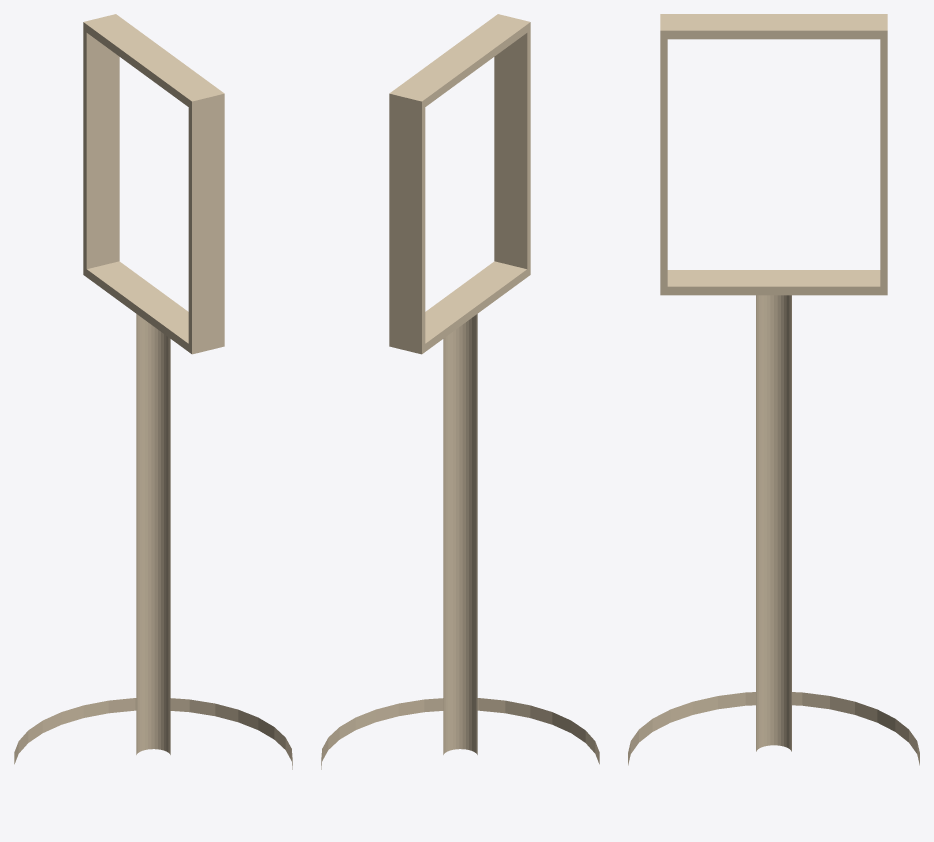
File: stand.glb
3 views of the same model, side by side, from view 1: azimuth 30°, elevation 25°; view 2: azimuth 150°, elevation 25°; view 3: azimuth 270°, elevation 25° (orthographic). The views are drawn at different scales.
Visible parts, largest first — view 1: Circle; view 2: Circle; view 3: Circle.
Part boxes in pixels (box(x1,y1,x2,y2)): Circle: box(14, 14, 292, 769); Circle: box(321, 14, 599, 769); Circle: box(628, 14, 919, 765).
Size of the model in its own units: 2 by 5.62 by 2.
